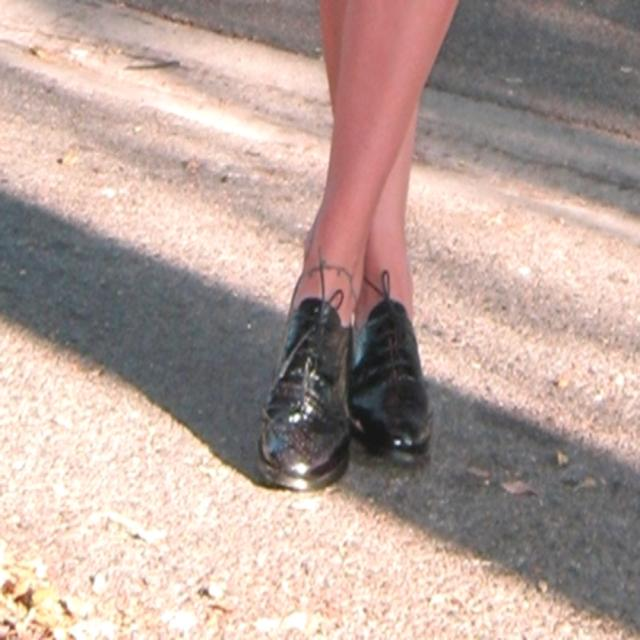piel: (294, 0, 459, 327)
